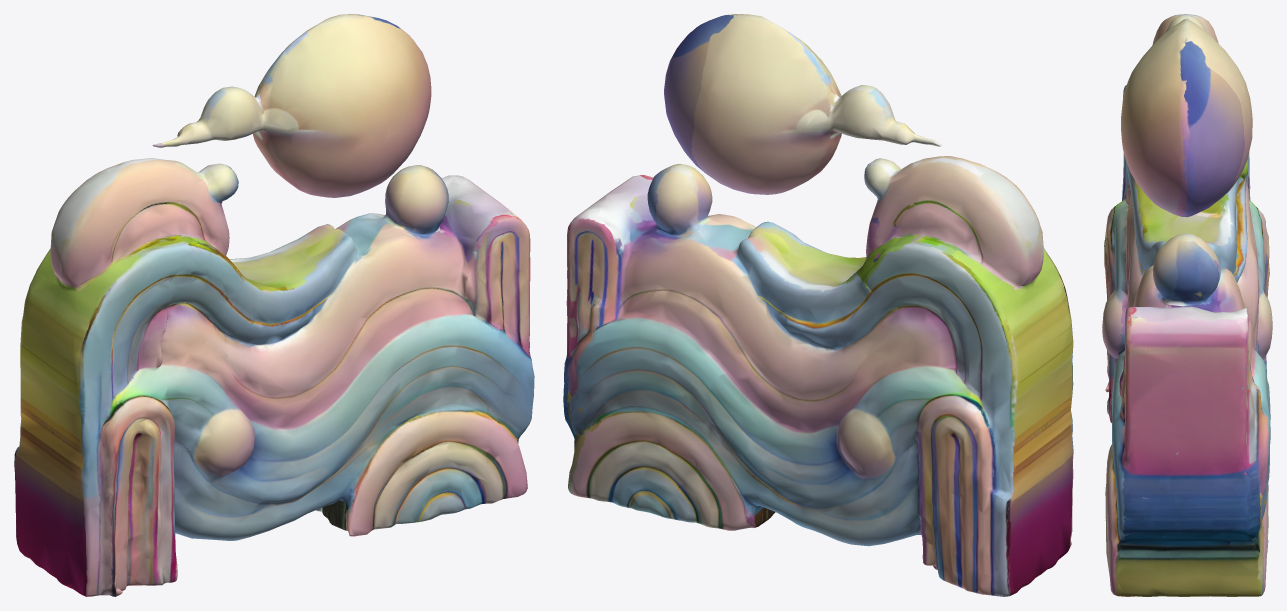
The model's file is memorystream.glb.
3 views of the same model, side by side, from view 1: azimuth 30°, elevation 25°; view 2: azimuth 150°, elevation 25°; view 3: azimuth 270°, elevation 25° (orthographic).
Parts seen in each view (by area): view 1: mesh; view 2: mesh; view 3: mesh.
Boxes of the visible parts, x1,y1,x2,y2 form: mesh: (14,14,534,596); mesh: (563,14,1073,596); mesh: (1102,14,1272,596).
Size of the model in its own units: 1.39 by 1.43 by 0.4453.
Materials: 1 (1 with a texture image).
